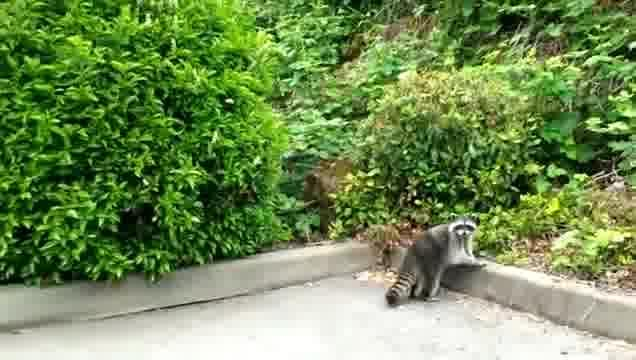raccoon: (386, 213, 488, 306)
